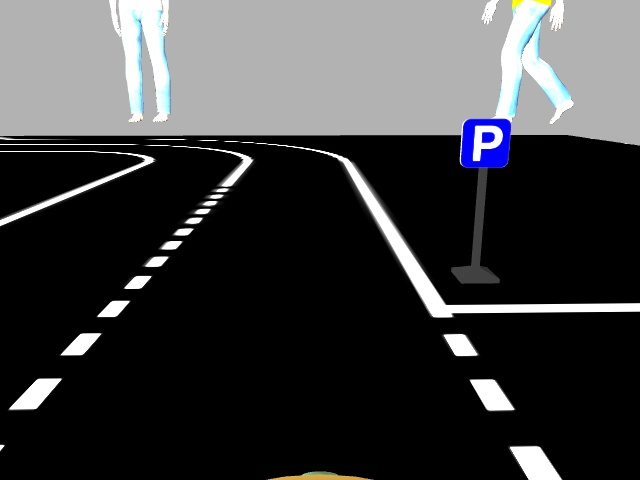Parking: (457, 117, 512, 170)
